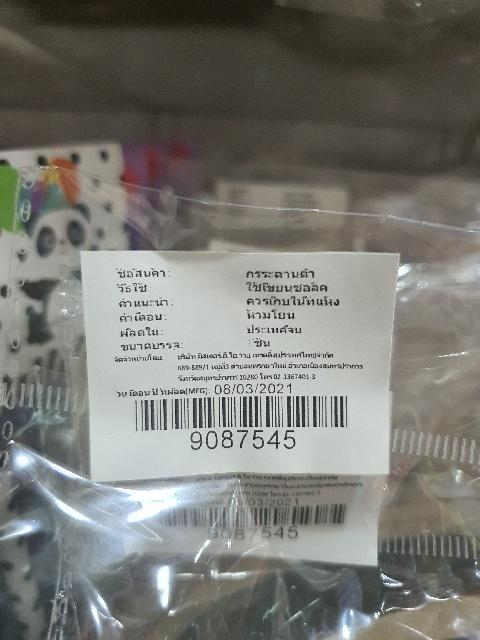Barcode: (121, 388, 357, 453)
